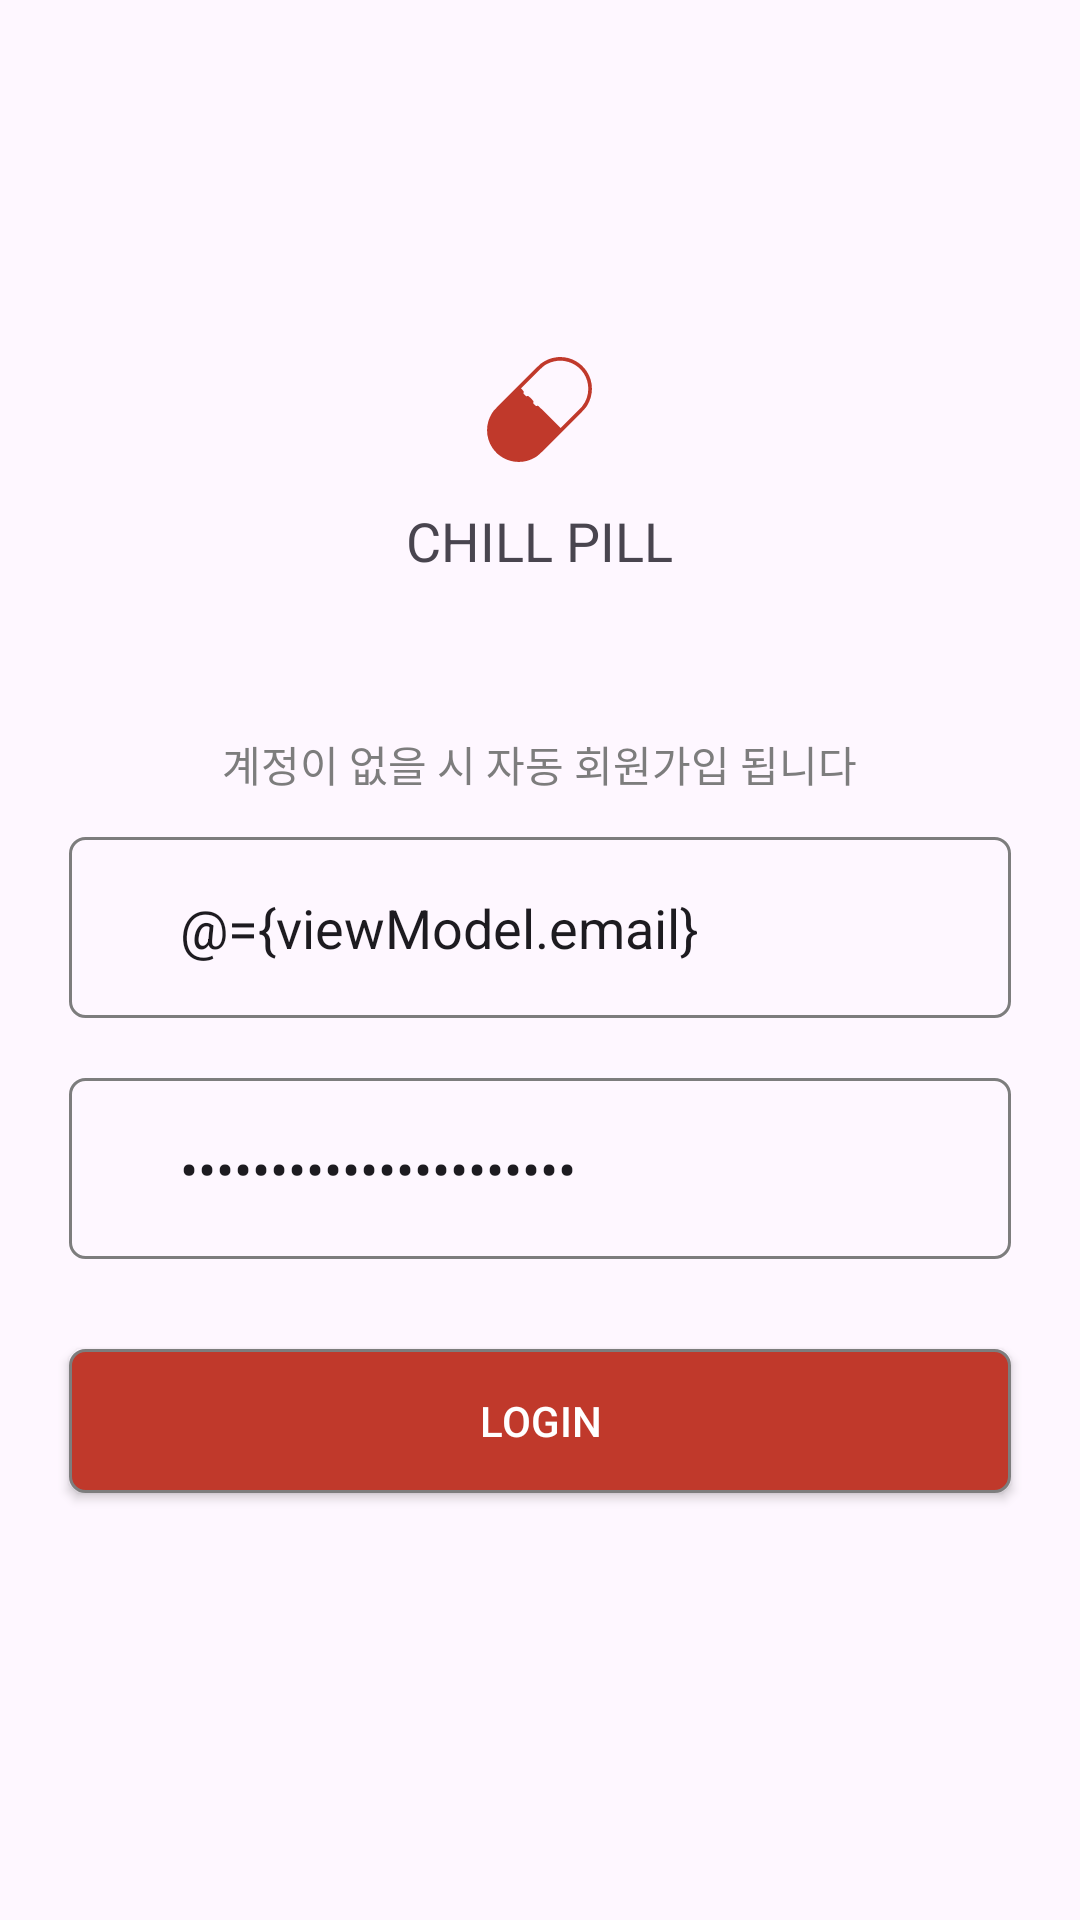

Icon bounding boxes for this 1080x1920 phone screenshot, format (x1, y1, x2, y2):
capsules: (487, 357, 592, 462)
